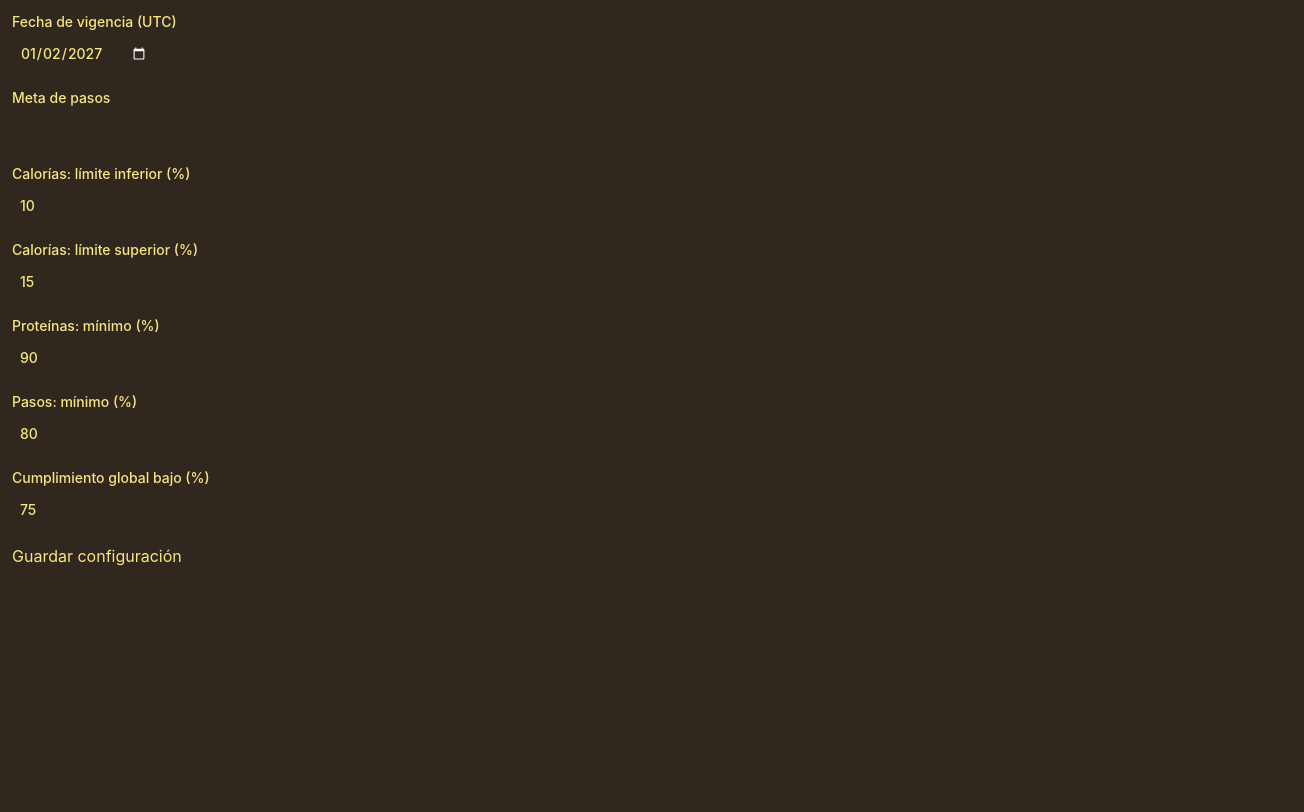
Test case: AdherenceConfigEditor › rejects a now-closed UTC date after midnight rather than submitting it
This screenshot has width=1304, height=812.
Click the button "Guardar configuración" at (97, 556), box x1=12 y1=544 x2=182 y2=568
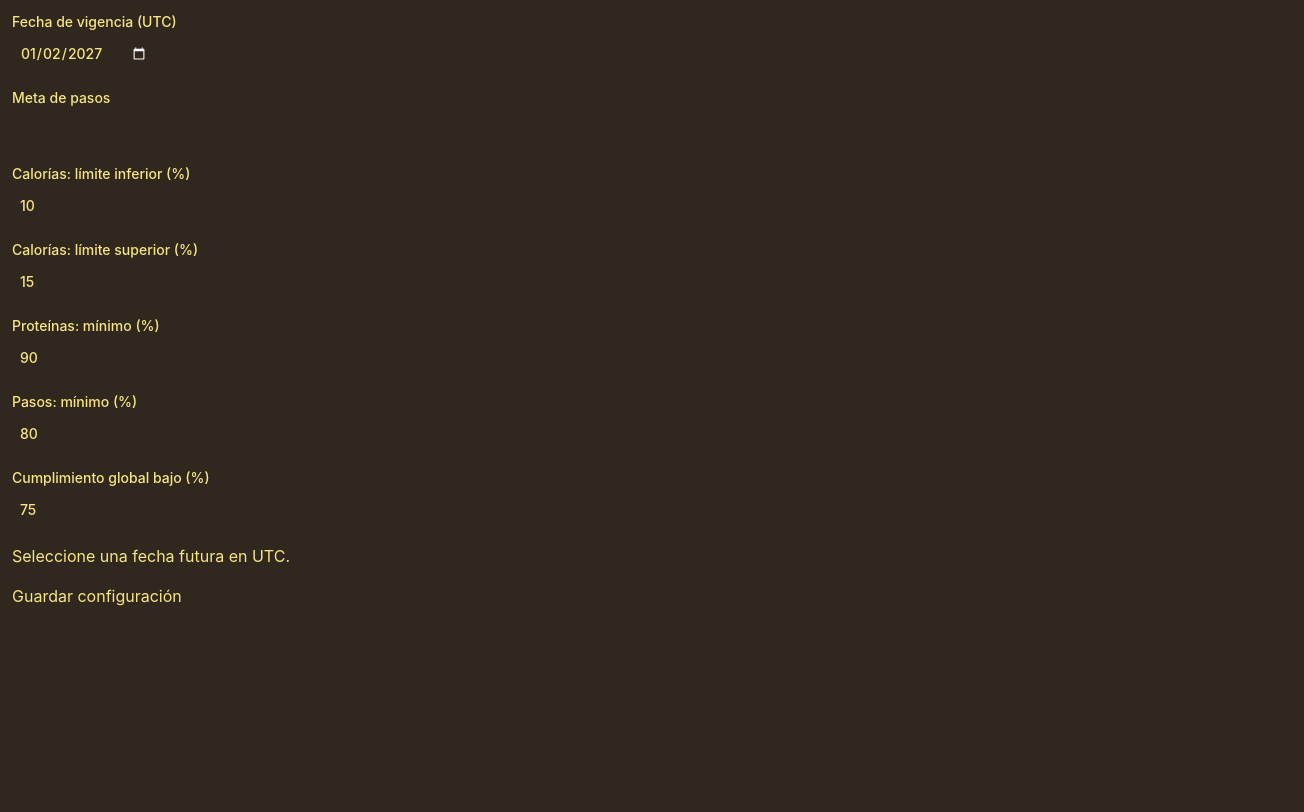
Result: the message shows "fecha futura" at x1=12 y1=546 x2=290 y2=566
